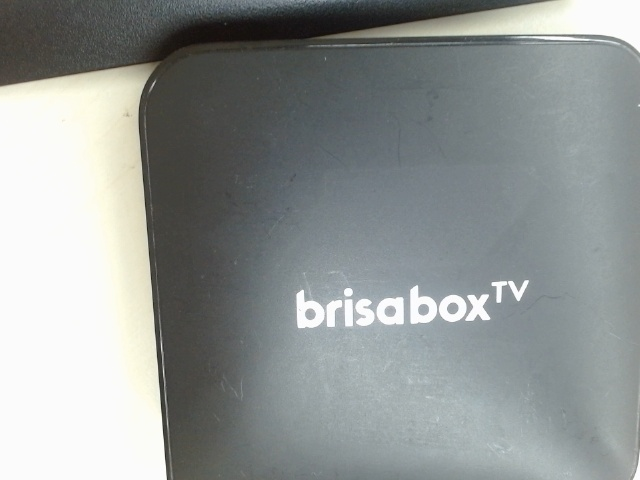AH_brisabox: (285, 273, 539, 342)
